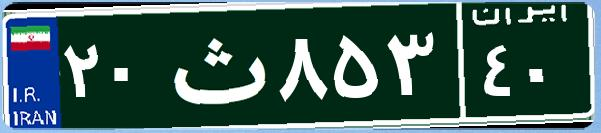0: (110, 28, 158, 105), (525, 38, 570, 115)
2: (57, 26, 110, 107)
3: (385, 28, 445, 110)
4: (475, 38, 525, 113)
5: (330, 28, 385, 110)
8: (273, 28, 330, 110)
ث: (158, 15, 273, 115)
